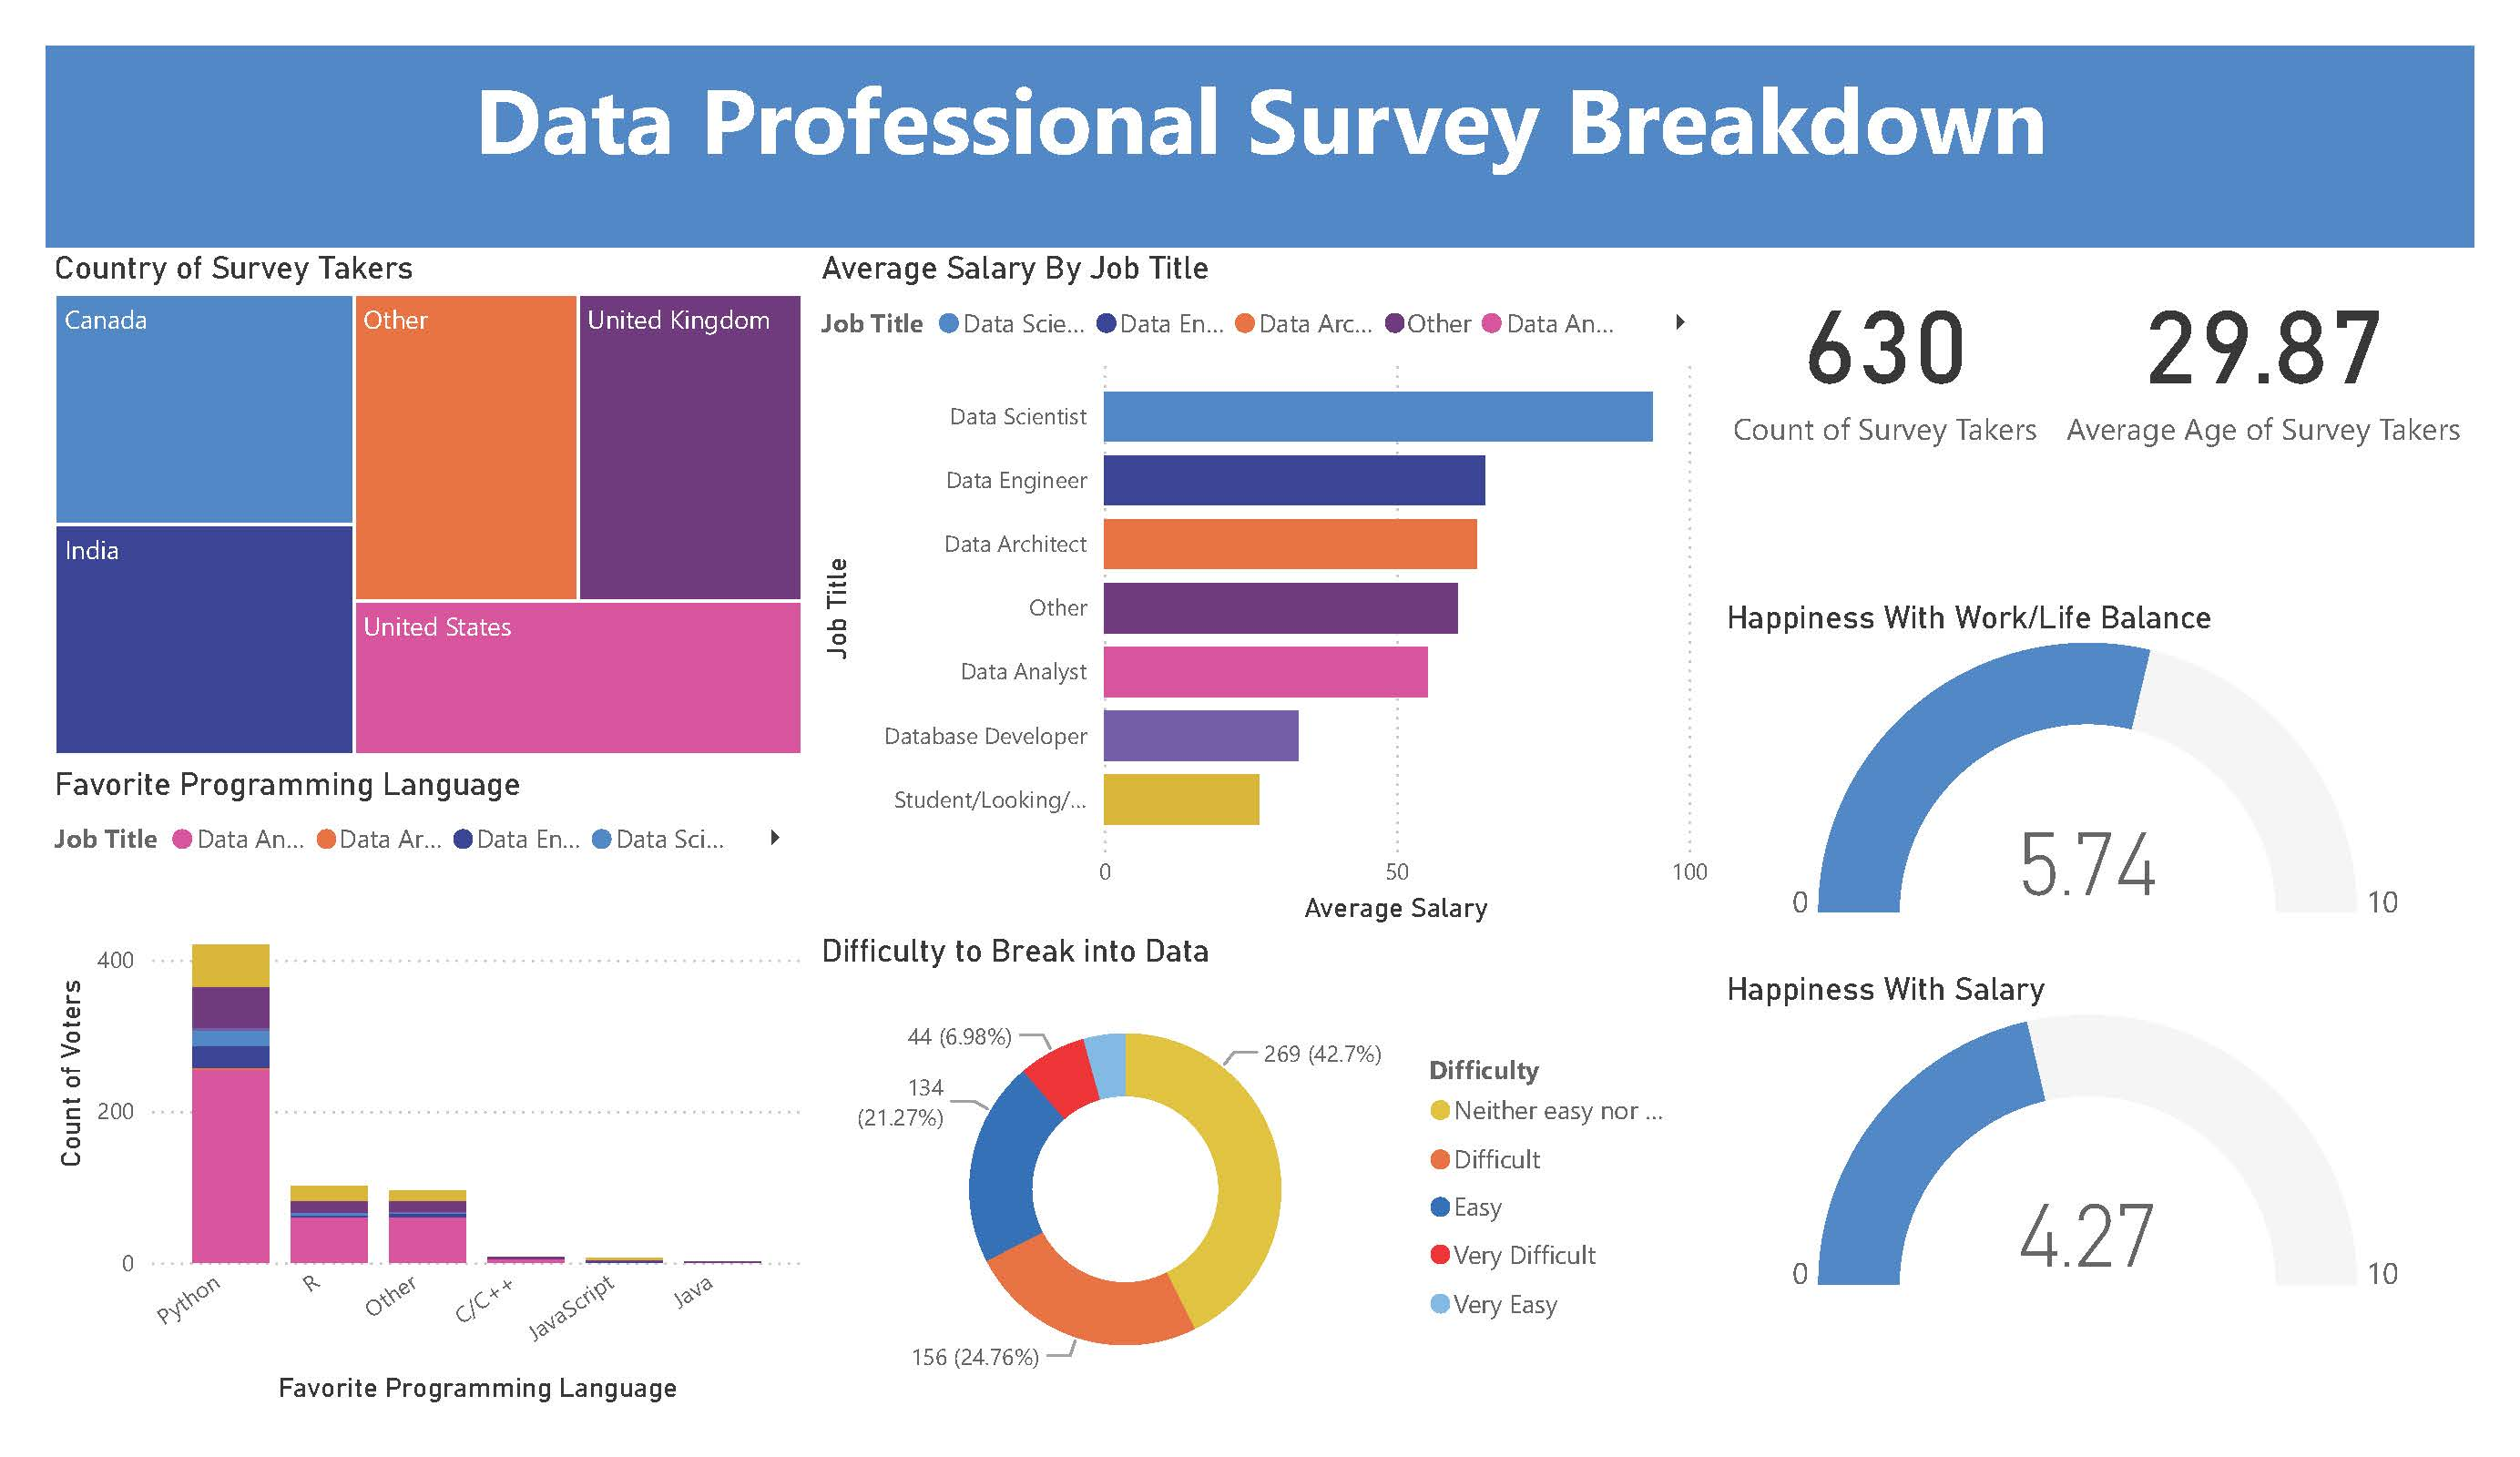

Layout of this report page (visuals, bound fields, positions):
{"tool":"powerbi","page":{"name":"Page 1","canvas":[1280,720],"ordinal":0},"visuals":[{"type":"textbox","box":[0,0,1280.9,107.4],"z":0},{"type":"card","fields":{"Values":["CountNonNull(Data Professional Survey.Unique ID)"]},"box":[881.3,107.4,176.3,111.1],"z":1000},{"type":"card","fields":{"Values":["Avg(Data Professional Survey.Q10 - Current Age)"]},"box":[1057.6,107.4,222.1,111.1],"z":2000},{"type":"barChart","title":"Average Salary By Job Title","fields":{"Category":["Data Professional Survey.Q1 - Which Title Best Fits your Current Role?.1"],"Y":["Avg(Data Professional Survey.Average Salary)"],"Series":["Data Professional Survey.Q1 - Which Title Best Fits your Current Role?.1"]},"box":[404.4,107.4,476.9,359.8],"z":3000},{"type":"columnChart","title":"Favorite Programming Language","fields":{"Y":["CountNonNull(Data Professional Survey.Unique ID)"],"Category":["Data Professional Survey.Q5 - Favorite Programming Language.1"],"Series":["Data Professional Survey.Q1 - Which Title Best Fits your Current Role?.1"]},"box":[0,379.1,404.4,340.4],"z":4000},{"type":"treemap","title":"Country of Survey Takers","fields":{"Group":["Data Professional Survey.Q11 - Which Country do you live in?.1"],"Values":["Count(Data Professional Survey.Q11 - Which Country do you live in?.1)"]},"box":[0,107.4,404.4,271.6],"z":5000},{"type":"gauge","title":"Happiness With Work/Life Balance","fields":{"Y":["Avg(Data Professional Survey.Q6 - How Happy are you in your Current Position with the following? (Work/Life Balance))"],"MinValue":["Min(Data Professional Survey.Q6 - How Happy are you in your Current Position with the following? (Work/Life Balance))"],"MaxValue":["Max(Data Professional Survey.Q6 - How Happy are you in your Current Position with the following? (Work/Life Balance))"]},"box":[881.3,291,398.4,176.3],"z":6000},{"type":"gauge","title":"Happiness With Salary","fields":{"Y":["Avg(Data Professional Survey.Q6 - How Happy are you in your Current Position with the following? (Salary))"],"MinValue":["Min(Data Professional Survey.Q6 - How Happy are you in your Current Position with the following? (Salary))"],"MaxValue":["Max(Data Professional Survey.Q6 - How Happy are you in your Current Position with the following? (Salary))"]},"box":[881.3,486.5,398.4,176.3],"z":7000},{"type":"donutChart","title":"Difficulty to Break into Data","fields":{"Y":["CountNonNull(Data Professional Survey.Q7 - How difficult was it for you to break into Data?)"],"Category":["Data Professional Survey.Q7 - How difficult was it for you to break into Data?"]},"box":[404.4,467.2,467.2,252.3],"z":8000}]}

Visuals, with their boxes in screenshot pixels (x1, y1, x2, y2):
textbox: [46, 46, 2474, 250]
card - CountNonNull(Data Professional Survey.Unique ID): [1718, 250, 2053, 460]
card - Avg(Data Professional Survey.Q10 - Current Age): [2053, 250, 2474, 460]
"Average Salary By Job Title" barChart: [813, 250, 1718, 932]
"Favorite Programming Language" columnChart: [46, 765, 813, 1411]
"Country of Survey Takers" treemap: [46, 250, 813, 765]
"Happiness With Work/Life Balance" gauge: [1718, 597, 2474, 932]
"Happiness With Salary" gauge: [1718, 969, 2474, 1303]
"Difficulty to Break into Data" donutChart: [813, 932, 1699, 1411]
